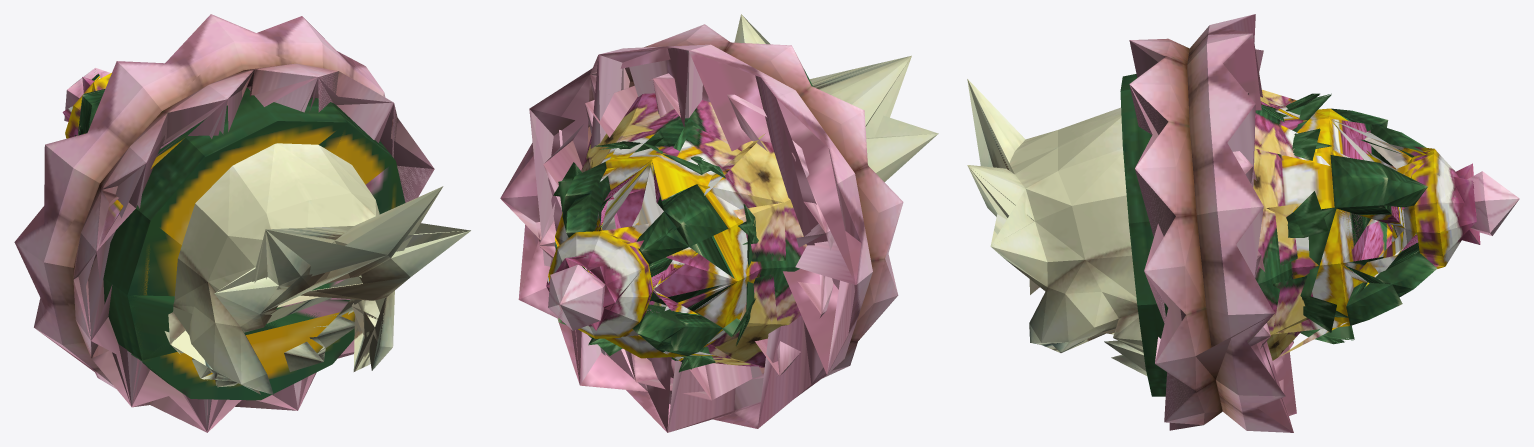
Rendered from Cat_krathongHat2.obj.
The picture shows the model from 3 angles, left to right: view 1: azimuth 30°, elevation 25°; view 2: azimuth 150°, elevation 25°; view 3: azimuth 270°, elevation 25°; orthographic projection. The views are drawn at different scales.
Parts seen in each view (by area): view 1: Cat_krathongHat2_tri; view 2: Cat_krathongHat2_tri; view 3: Cat_krathongHat2_tri.
Part boxes in pixels (<box>): Cat_krathongHat2_tri: <box>14,14,470,432</box>; Cat_krathongHat2_tri: <box>500,14,938,432</box>; Cat_krathongHat2_tri: <box>967,14,1519,432</box>.
Bounding box in the file's own units: 0.472 × 0.4647 × 0.6127.
Materials: 1 (1 with a texture image).
